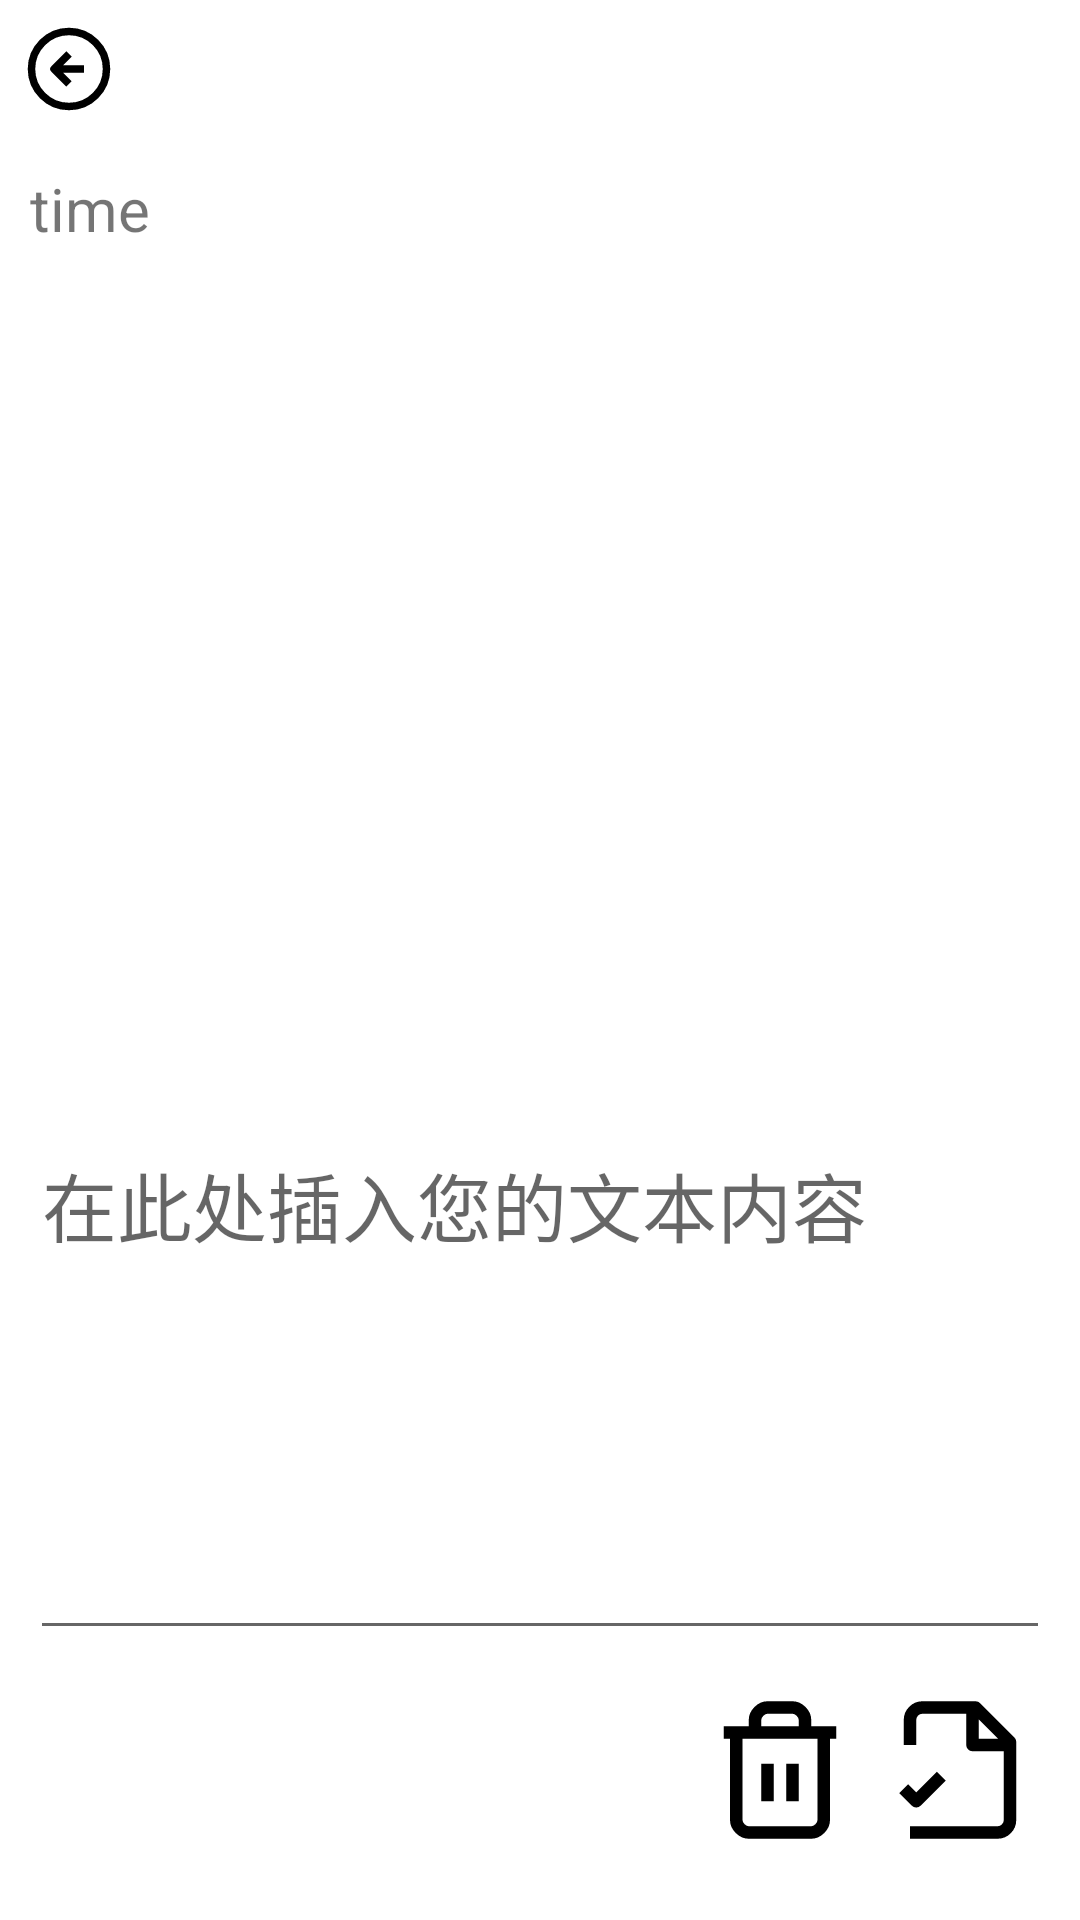

Where to tap for icons on this 1080×1920 app screen, as [x,y]:
back: [69,69]
delete: [780,1770]
save: [958,1770]
